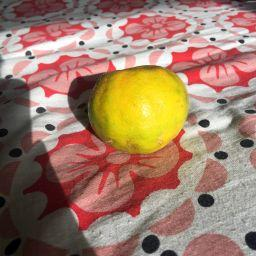Ripe: (90, 67, 188, 154)
